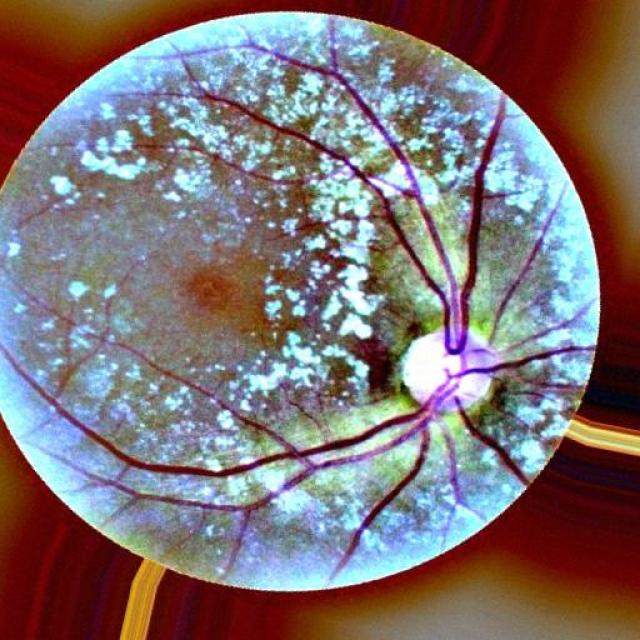Macula: (180, 264, 235, 314)
Nerves: (101, 41, 594, 578), (490, 200, 558, 341), (509, 304, 589, 348)
Optic Disk: (402, 327, 497, 408)
